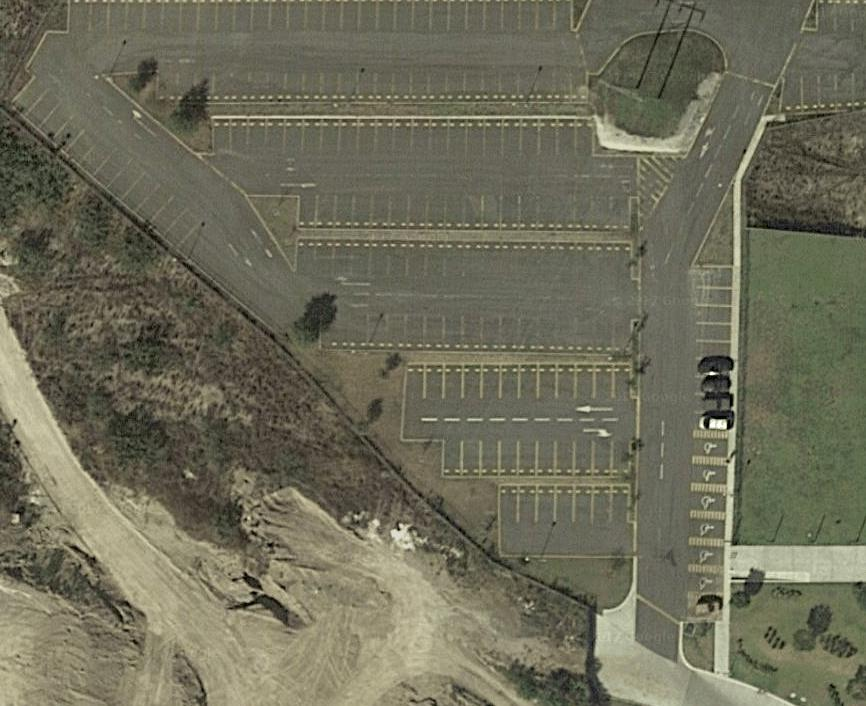parkingspot: (8, 74, 204, 250), (66, 0, 573, 35), (156, 68, 590, 105), (294, 237, 633, 282), (212, 117, 595, 156), (296, 193, 632, 233), (318, 314, 633, 356), (403, 361, 633, 401), (687, 266, 734, 432), (442, 440, 632, 478), (498, 484, 631, 524), (779, 72, 858, 114), (815, 0, 866, 35), (689, 436, 729, 459), (689, 491, 728, 514), (688, 464, 728, 486), (687, 544, 725, 567), (687, 518, 726, 540), (687, 572, 724, 594)
